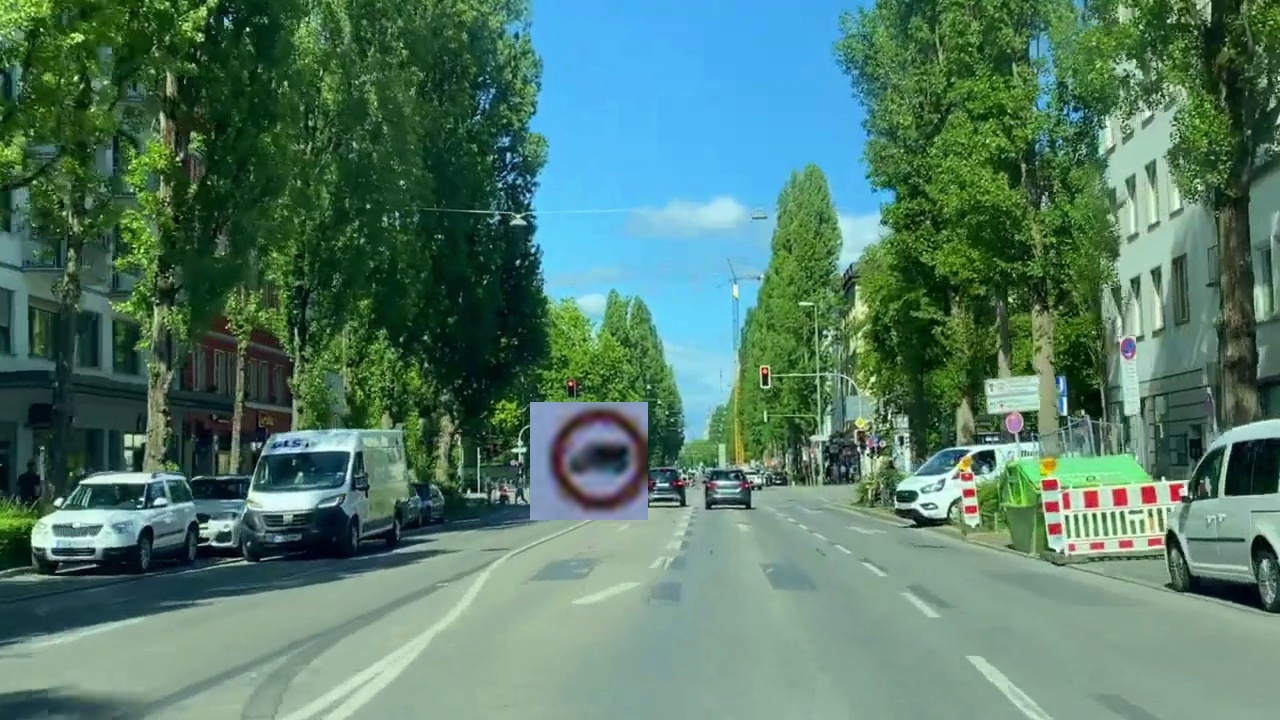Veh >3.5t prohib: (530, 402, 648, 520)
